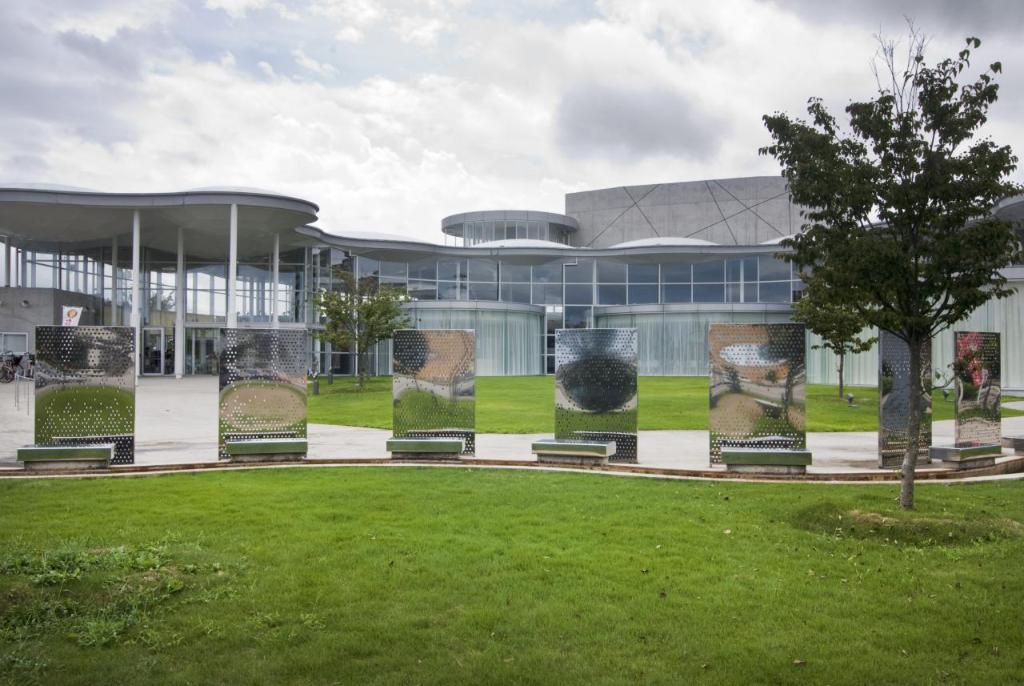Tree: (751, 7, 1023, 512), (300, 262, 417, 385), (147, 280, 178, 316)
